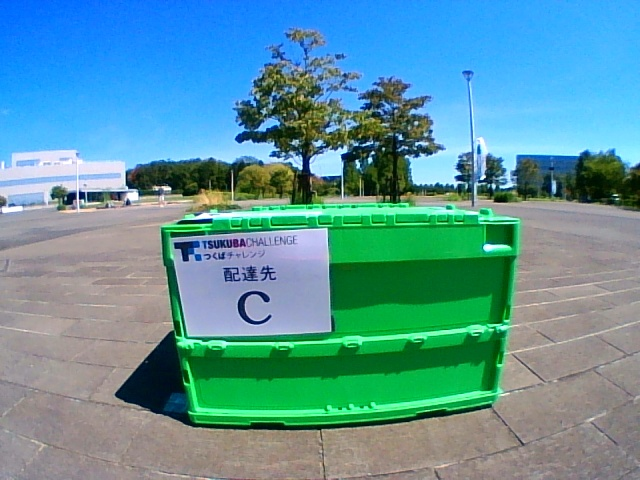green_box: (161, 203, 521, 426)
tag_c: (193, 238, 324, 333)
